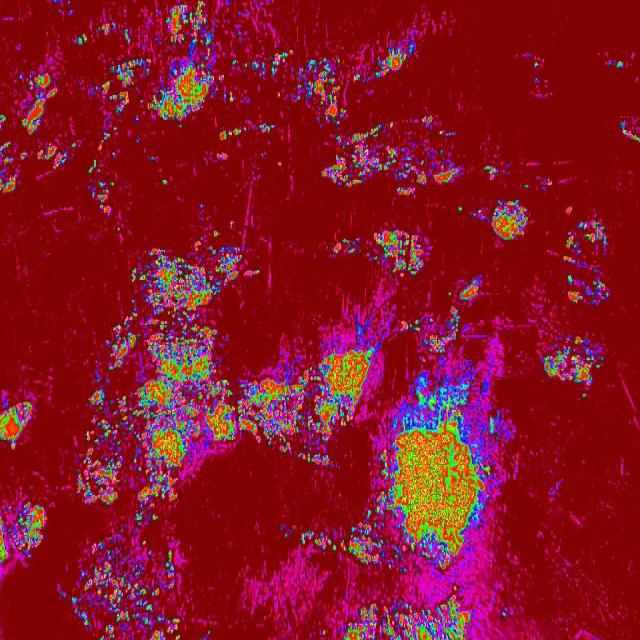fire: (75, 242, 216, 522), (377, 372, 499, 574), (236, 332, 374, 467), (55, 540, 181, 640), (320, 115, 466, 197), (341, 594, 472, 640), (152, 49, 224, 121), (288, 54, 352, 116), (542, 332, 606, 388), (394, 306, 464, 354), (0, 502, 46, 566), (369, 228, 425, 278), (18, 70, 61, 134), (100, 59, 151, 112), (160, 0, 214, 49), (372, 36, 421, 79), (0, 399, 36, 453), (214, 372, 237, 446), (348, 506, 376, 564), (491, 200, 528, 240), (566, 273, 610, 305), (298, 529, 348, 555), (215, 249, 241, 296), (0, 138, 20, 194), (88, 181, 116, 213), (579, 217, 607, 247), (38, 142, 69, 168), (560, 230, 580, 268), (327, 236, 365, 256), (457, 274, 482, 302), (619, 116, 640, 143), (220, 124, 250, 142), (270, 48, 288, 78), (276, 522, 298, 538), (481, 162, 498, 180), (99, 21, 118, 37), (87, 158, 103, 174), (73, 32, 89, 48), (252, 60, 266, 78), (604, 60, 626, 70), (500, 603, 512, 621), (471, 208, 486, 222), (100, 128, 113, 143), (122, 29, 134, 45), (242, 269, 261, 279), (258, 121, 275, 132), (201, 626, 212, 640), (197, 201, 205, 219), (544, 176, 554, 190), (216, 151, 230, 160), (0, 112, 8, 127), (88, 83, 100, 93), (160, 177, 170, 187), (146, 155, 158, 163), (353, 74, 362, 84), (21, 149, 28, 161), (533, 60, 541, 70), (230, 58, 238, 68), (72, 140, 80, 150), (133, 136, 141, 146), (178, 120, 185, 131), (580, 391, 588, 400), (110, 150, 118, 159), (320, 629, 330, 636), (228, 91, 234, 102), (458, 206, 467, 213), (134, 114, 140, 124), (452, 584, 459, 592), (116, 225, 122, 234), (448, 288, 453, 298), (66, 0, 72, 8), (243, 62, 249, 69), (214, 230, 219, 238), (524, 182, 529, 190), (278, 91, 282, 98), (290, 48, 295, 53)
